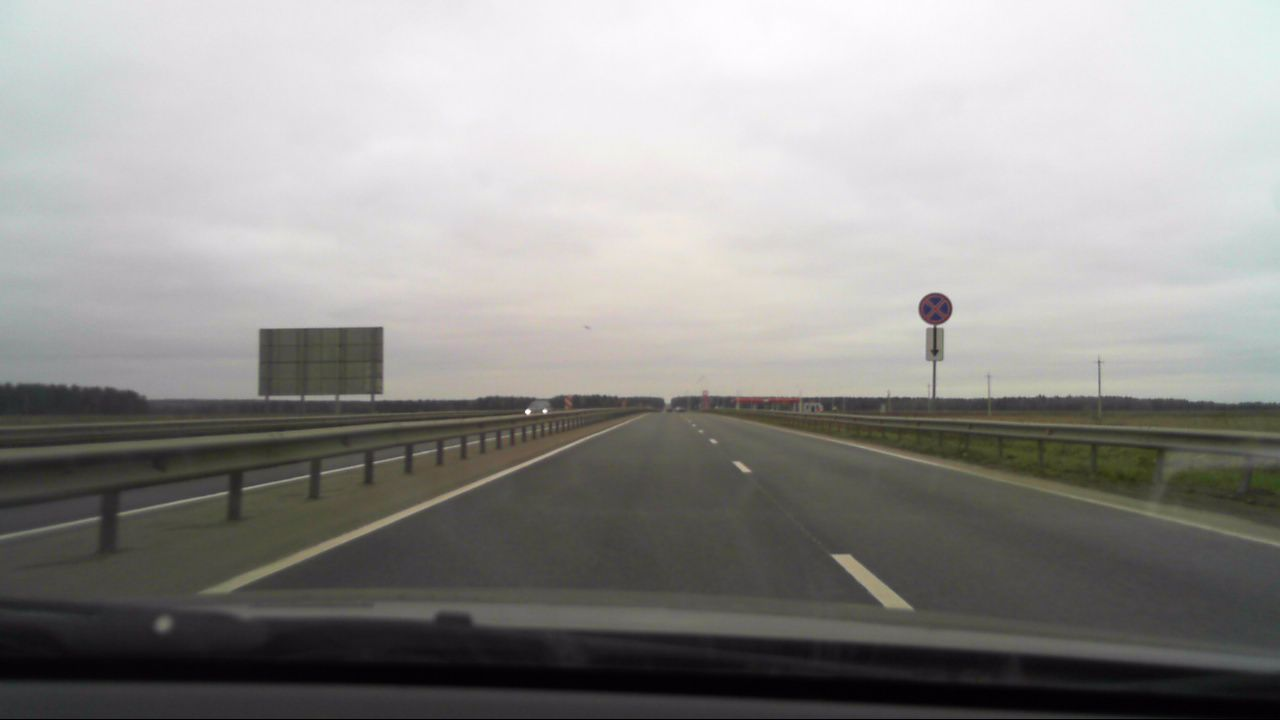No Parking: (917, 292, 953, 326)
